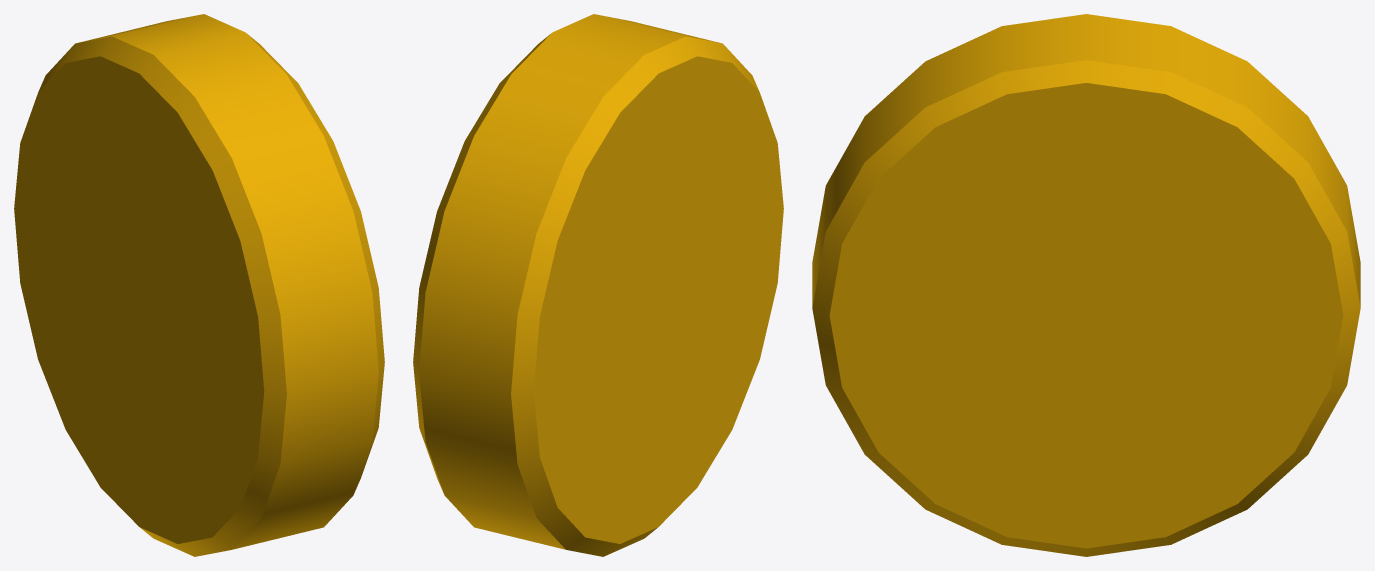
Rendered from _gold_coin.fbx.
3 renders of one model, left to right at view 1: azimuth 30°, elevation 25°; view 2: azimuth 150°, elevation 25°; view 3: azimuth 270°, elevation 25°, orthographic. The views are drawn at different scales.
Parts seen in each view (by area): view 1: gold_coin; view 2: gold_coin; view 3: gold_coin.
Boxes of the visible parts, <box> form: gold_coin: <box>14,14,384,556</box>; gold_coin: <box>413,14,783,556</box>; gold_coin: <box>812,14,1360,556</box>.
Size of the model in its own units: 24.8 by 95.07 by 95.07.
